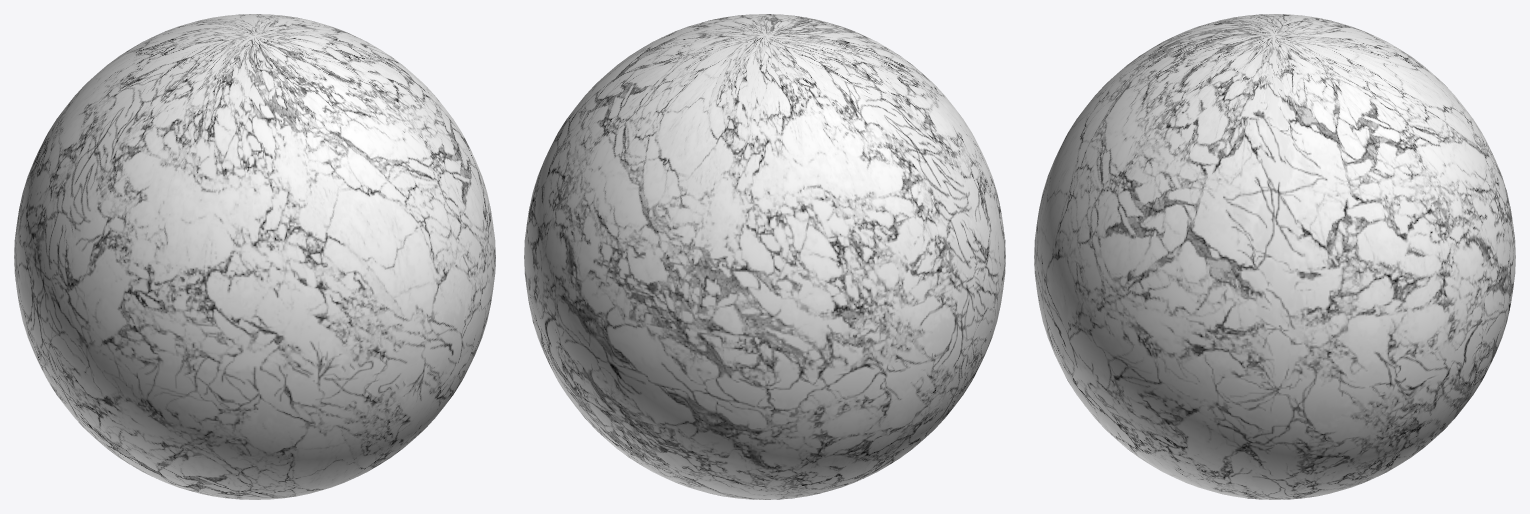
Rendered from sphere_marble_jpg.dae.
3 views of the same model, side by side, from view 1: azimuth 30°, elevation 25°; view 2: azimuth 150°, elevation 25°; view 3: azimuth 270°, elevation 25° (orthographic).
Visible parts, largest first — view 1: Draw; view 2: Draw; view 3: Draw.
Boxes of the visible parts, x1,y1,x2,y2 form: Draw: (14, 14, 495, 499); Draw: (524, 14, 1005, 499); Draw: (1034, 14, 1515, 499).
Size of what is drawn, in the model's own units: 1.97 by 1.97 by 2.
Materials: 1 (1 with a texture image).
